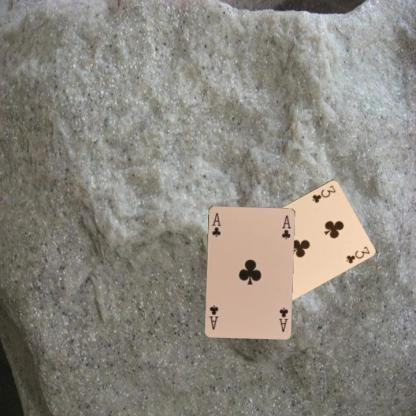3c: (310, 183, 337, 204)
Ac: (209, 210, 222, 238), (276, 305, 289, 333)
